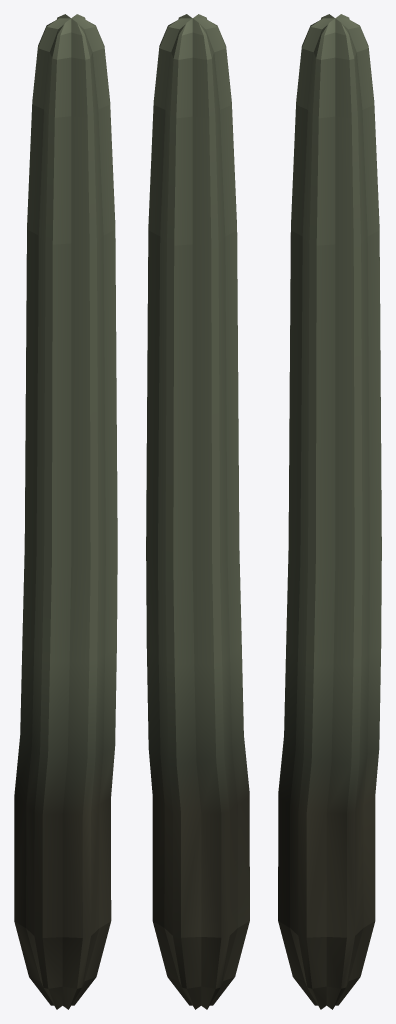
Rendered from plants-cacti-succulents-pole-cactus_v2.glb.
3 views of the same model, side by side, from view 1: azimuth 30°, elevation 25°; view 2: azimuth 210°, elevation 25°; view 3: azimuth 330°, elevation 25° (orthographic).
Parts seen in each view (by area): view 1: Pole Cactus_v2; view 2: Pole Cactus_v2; view 3: Pole Cactus_v2.
Part boxes in pixels (x1,y1,x2,y2): Pole Cactus_v2: (14,14,117,1009); Pole Cactus_v2: (146,14,249,1009); Pole Cactus_v2: (278,14,381,1009).
Size of the model in its own units: 0.1333 by 1.5 by 0.1337.
